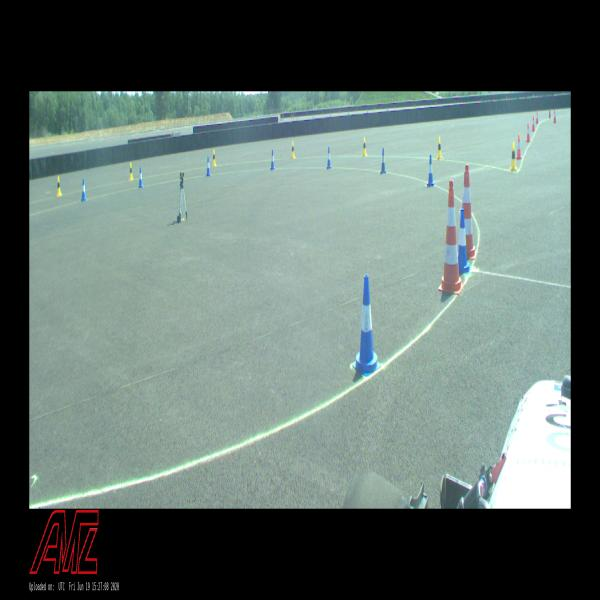blue_cone: (352, 275, 381, 376), (458, 209, 471, 274), (427, 154, 434, 186), (326, 147, 332, 169), (81, 179, 87, 201), (381, 148, 386, 174), (138, 168, 144, 188), (270, 150, 275, 170), (206, 157, 211, 176)
large_orange_cone: (438, 180, 464, 294), (463, 166, 476, 259)
orange_cone: (516, 135, 522, 159), (526, 123, 531, 142), (553, 110, 557, 122), (532, 116, 535, 131), (536, 111, 538, 123)
yellow_cone: (510, 142, 517, 172), (437, 137, 442, 160), (362, 137, 367, 156), (57, 176, 62, 195), (130, 162, 134, 180), (291, 141, 295, 158), (212, 150, 216, 166)
